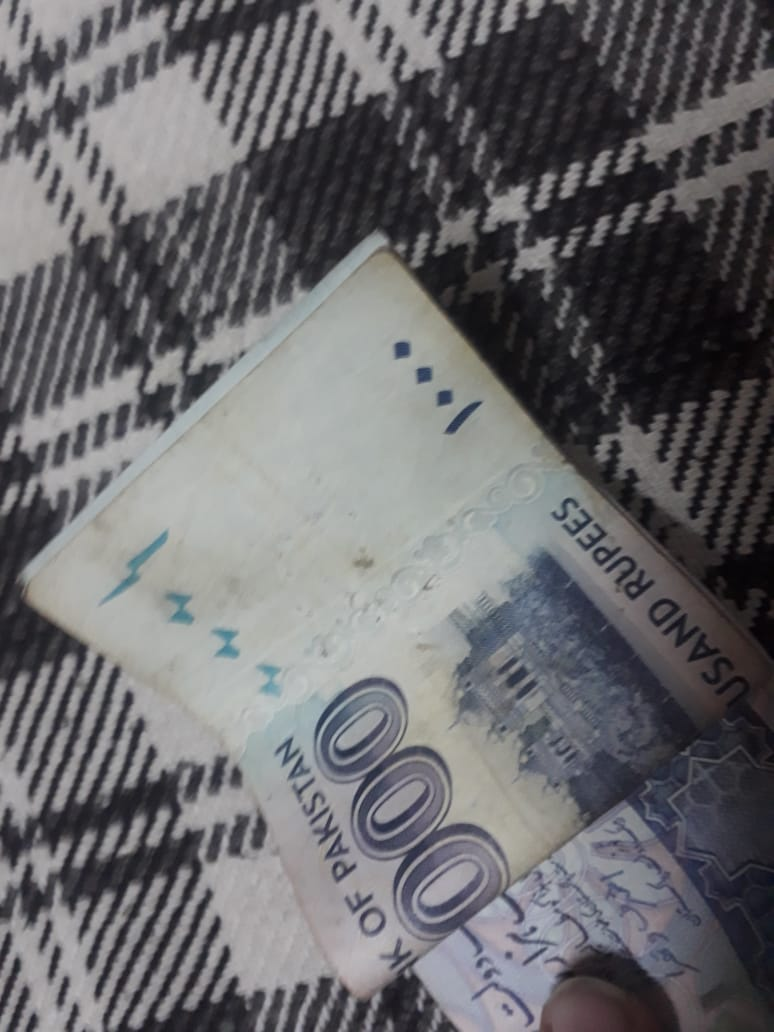1000 rupee: (38, 242, 765, 957)
